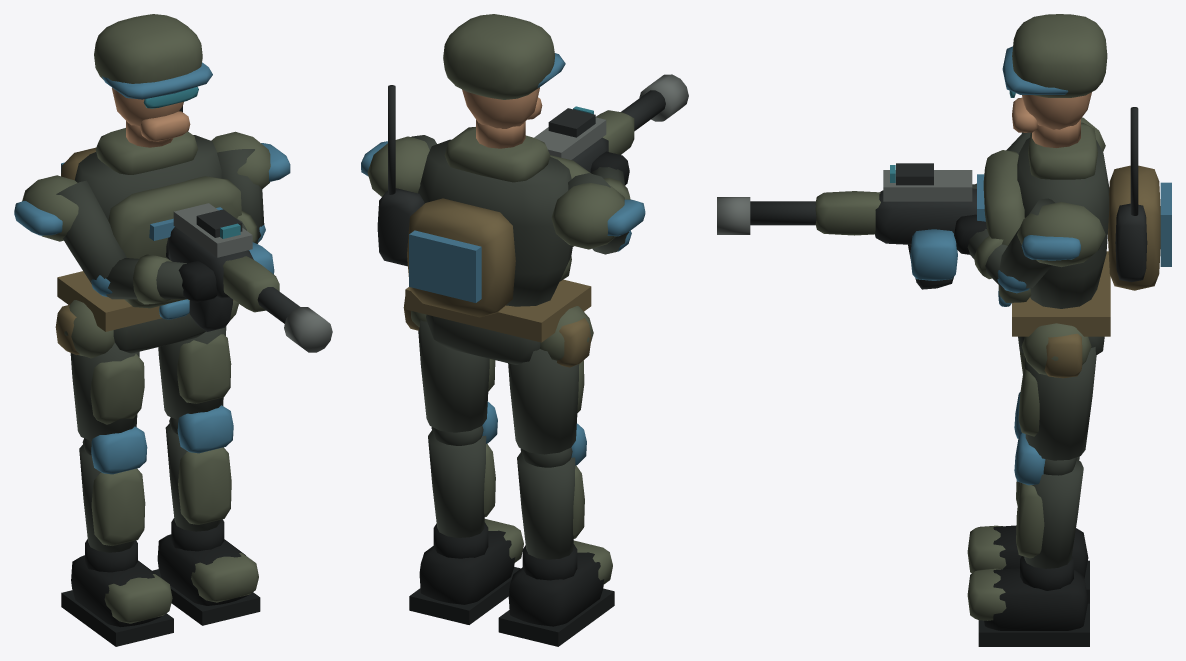
Rendered from Bastion_Gunner_Static.obj.
3 views of the same model, side by side, from view 1: azimuth 30°, elevation 25°; view 2: azimuth 150°, elevation 25°; view 3: azimuth 270°, elevation 25° (orthographic). The views are drawn at different scales.
Visible parts, largest first — view 1: Static_ShinGuard, Static_ThighPlate, Static_Helmet, Static_ChestArmor, Static_Boot, Static_ToeCap, Static_Thigh, Static_KneePad, Static_TorsoCore, Static_Sole, Static_LeftUpperArm, Static_Collar (+28 smaller); view 2: Static_Thigh, Static_TorsoCore, Static_Shin, Static_Boot, Static_Helmet, Static_AmmoPack, Static_AmmoPackPlate, Static_Sole, Static_Belt, Static_Collar, Static_LeftShoulder, Static_PelvisCore (+21 smaller); view 3: Static_Helmet, Static_TorsoCore, Static_Boot, Static_Thigh, Static_AmmoPack, Static_Shin, Static_Receiver, Static_Belt, Static_ChestArmor, Static_RightShoulder, Static_ToeCap, Static_Handguard (+23 smaller).
Part boxes in pixels (x1,y1,x2,y2): Static_ShinGuard: [91, 447, 231, 545]; Static_ThighPlate: [90, 334, 231, 424]; Static_Helmet: [94, 14, 202, 83]; Static_ChestArmor: [108, 176, 241, 258]; Static_Boot: [71, 534, 248, 627]; Static_ToeCap: [104, 552, 258, 623]; Static_Thigh: [70, 326, 226, 440]; Static_KneePad: [91, 405, 233, 474]; Static_TorsoCore: [75, 135, 221, 220]; Static_Sole: [61, 569, 260, 646]; Static_LeftUpperArm: [56, 180, 126, 283]; Static_Collar: [95, 128, 197, 174]; Static_Thigh: [418, 320, 579, 454]; Static_TorsoCore: [418, 139, 572, 306]; Static_Shin: [428, 430, 575, 559]; Static_Boot: [419, 530, 604, 626]; Static_Helmet: [443, 14, 554, 99]; Static_AmmoPack: [407, 198, 515, 317]; Static_AmmoPackPlate: [409, 230, 481, 302]; Static_Sole: [409, 567, 614, 646]; Static_Belt: [405, 279, 591, 342]; Static_Collar: [444, 127, 550, 182]; Static_LeftShoulder: [551, 183, 624, 249]; Static_PelvisCore: [426, 314, 540, 364]; Static_Helmet: [1012, 14, 1107, 97]; Static_TorsoCore: [1017, 137, 1109, 308]; Static_Boot: [984, 525, 1088, 630]; Static_Thigh: [1024, 347, 1096, 460]; Static_AmmoPack: [1107, 165, 1160, 290]; Static_Shin: [1024, 456, 1083, 568]; Static_Receiver: [875, 188, 976, 244]; Static_Belt: [1012, 251, 1110, 336]; Static_ChestArmor: [983, 150, 1024, 245]; Static_RightShoulder: [1017, 202, 1105, 267]; Static_ToeCap: [967, 525, 1006, 620]; Static_Handguard: [815, 191, 880, 235].
Size of the model in its own units: 0.9548 by 2.04 by 1.43.
Materials: 1 (1 with a texture image).
